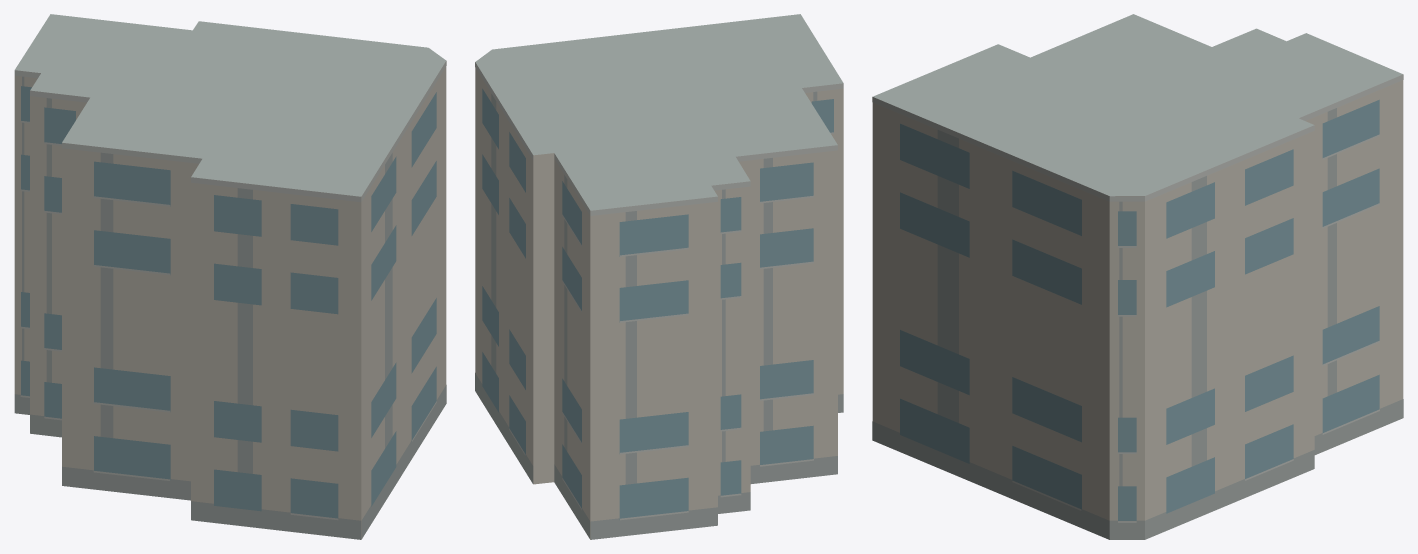
The model's file is survey-upis-32751548.glb.
The picture shows the model from 3 angles, left to right: view 1: azimuth 30°, elevation 25°; view 2: azimuth 150°, elevation 25°; view 3: azimuth 270°, elevation 25°; orthographic projection. The views are drawn at different scales.
Parts seen in each view (by area): view 1: survey-upis-32751548.tmp; view 2: survey-upis-32751548.tmp; view 3: survey-upis-32751548.tmp.
Part boxes in pixels (<box>): survey-upis-32751548.tmp: <box>14,14,446,539</box>; survey-upis-32751548.tmp: <box>475,14,843,539</box>; survey-upis-32751548.tmp: <box>872,14,1403,539</box>.
Size of the model in its own units: 17.2 by 15.12 by 21.17.
